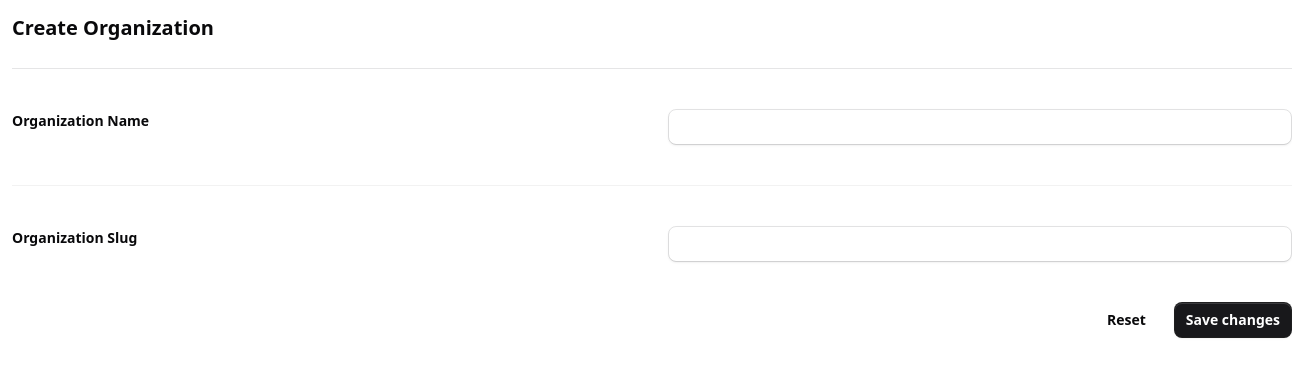
CreateOrg Component › displays error message when slug is already taken (409)
The image size is (1304, 391).
Type "Duplicate Org" into the field named "organization name". click: (980, 127)
box: [668,109,1292,145]
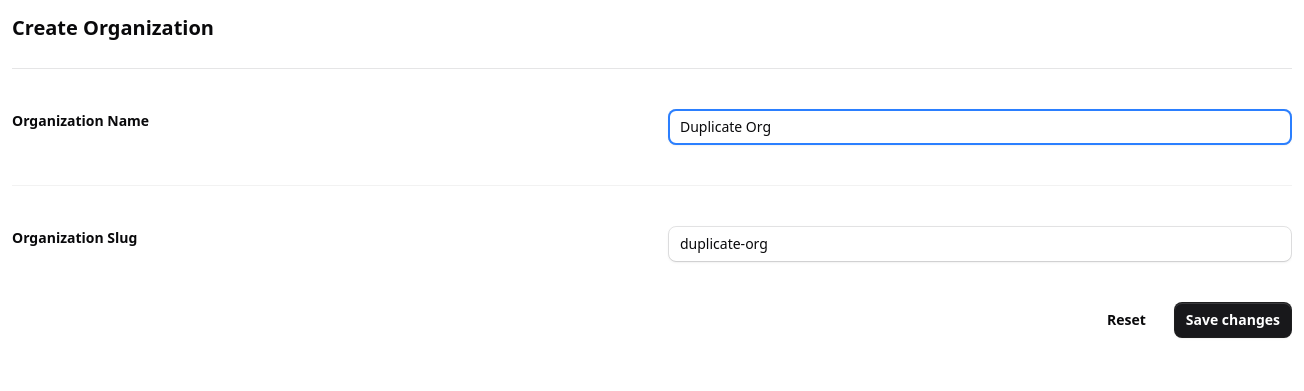
Click the button "Save changes". click: (1233, 320)
box: [1174,302,1292,338]
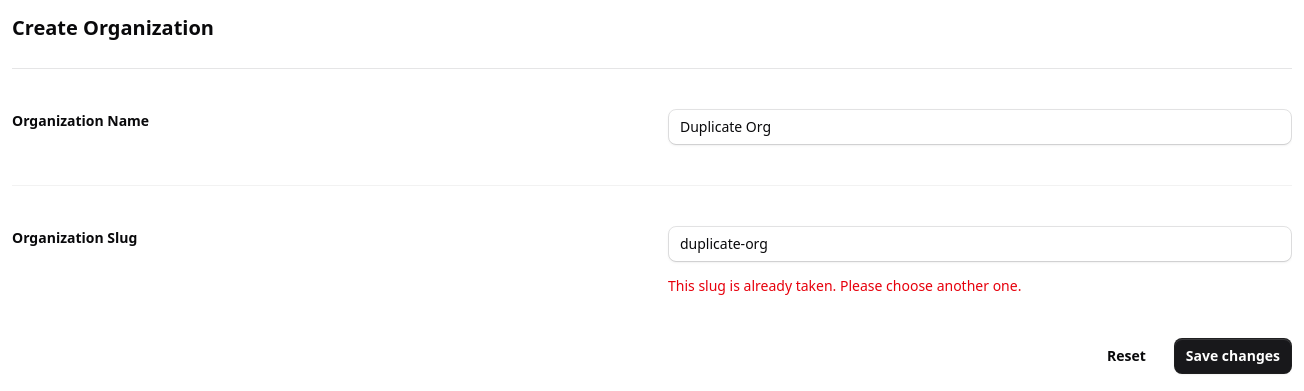
Expected: the text "This slug is already taken. Please choose another one." is shown, [668,276,1021,295]
